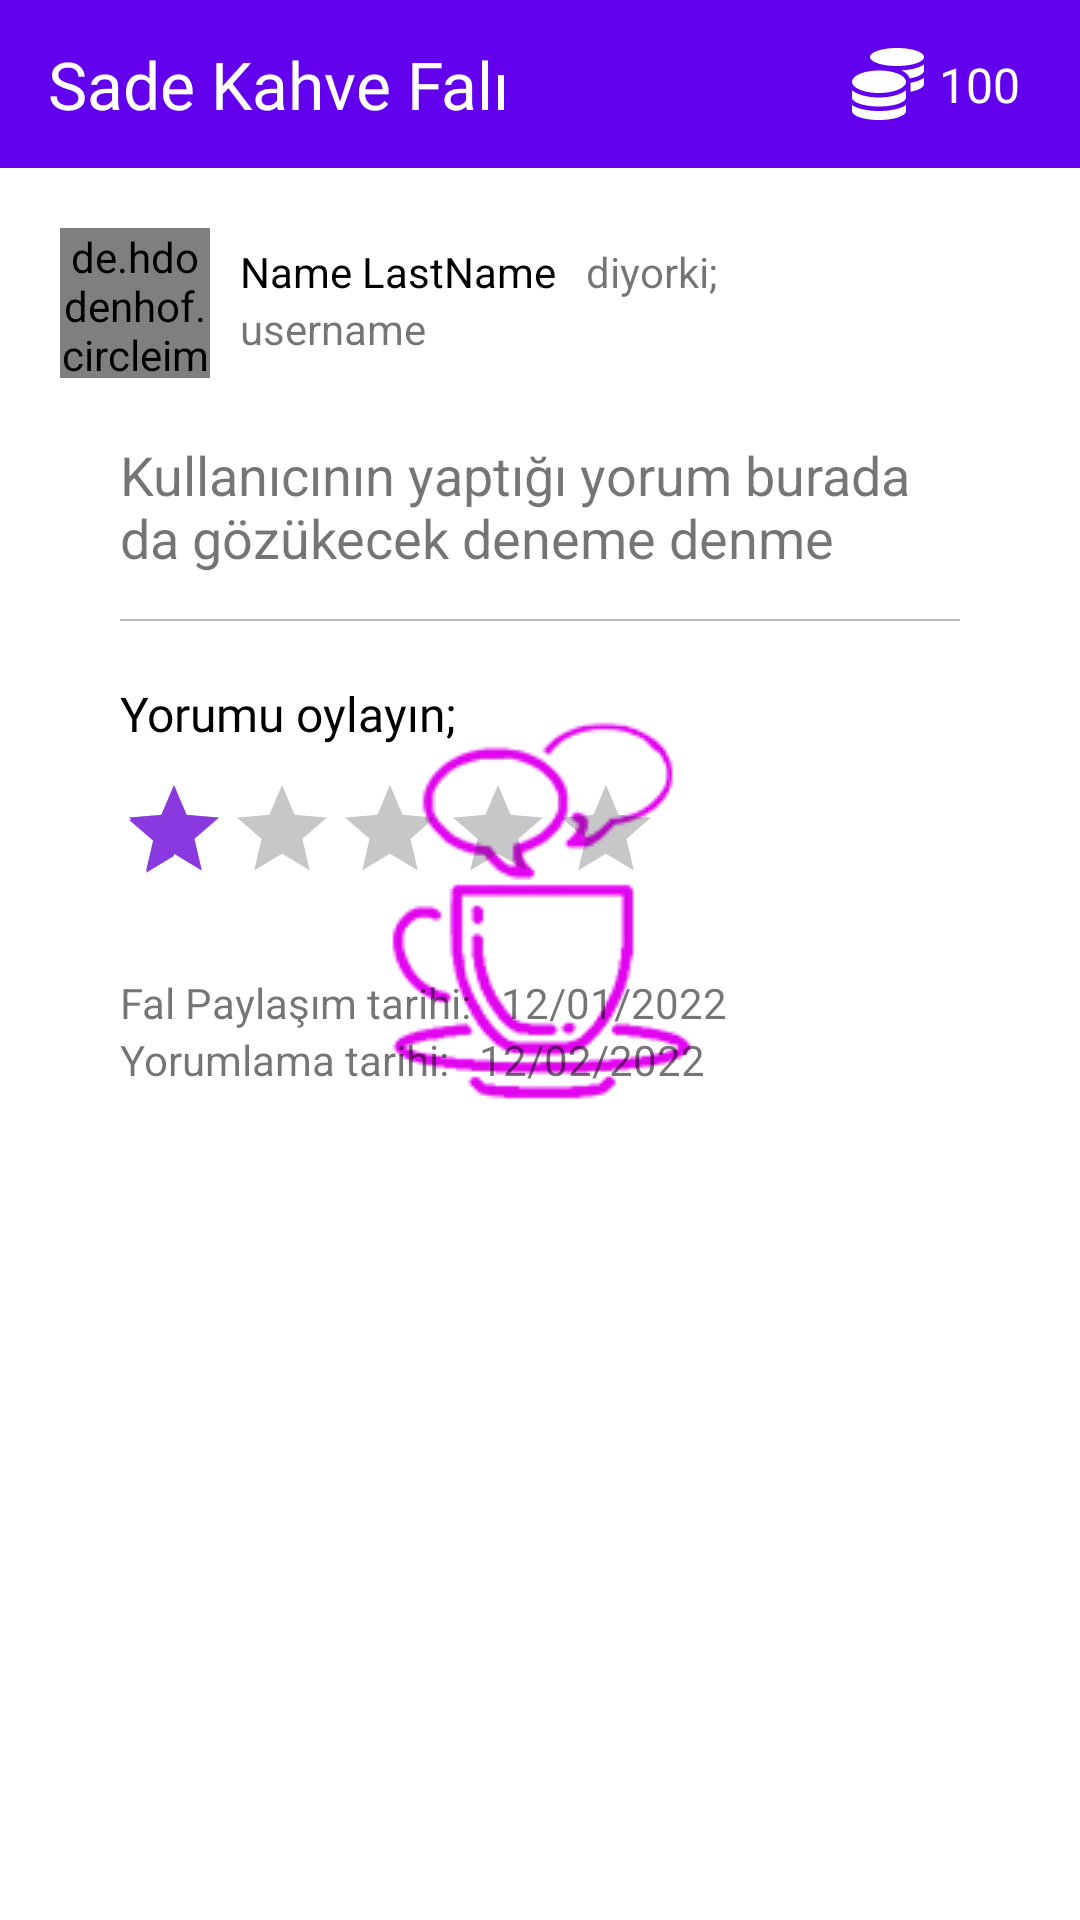

Point at icon controls on the screen. Image size 1080px×1920px, points as point (x, y).
coin: point (888, 84)
